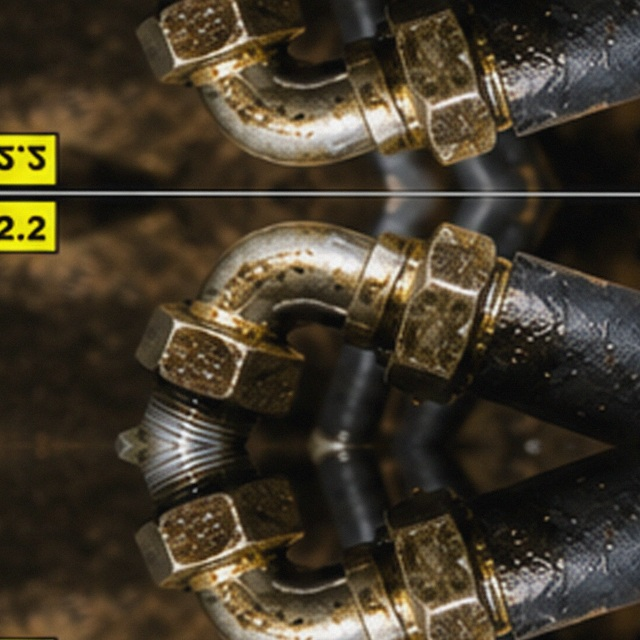hydraulic_oil_leak: (203, 201, 425, 429)
